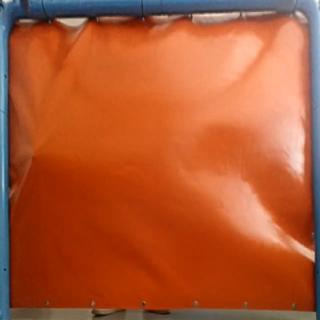Hit-hRxx: (27, 144, 45, 164)
